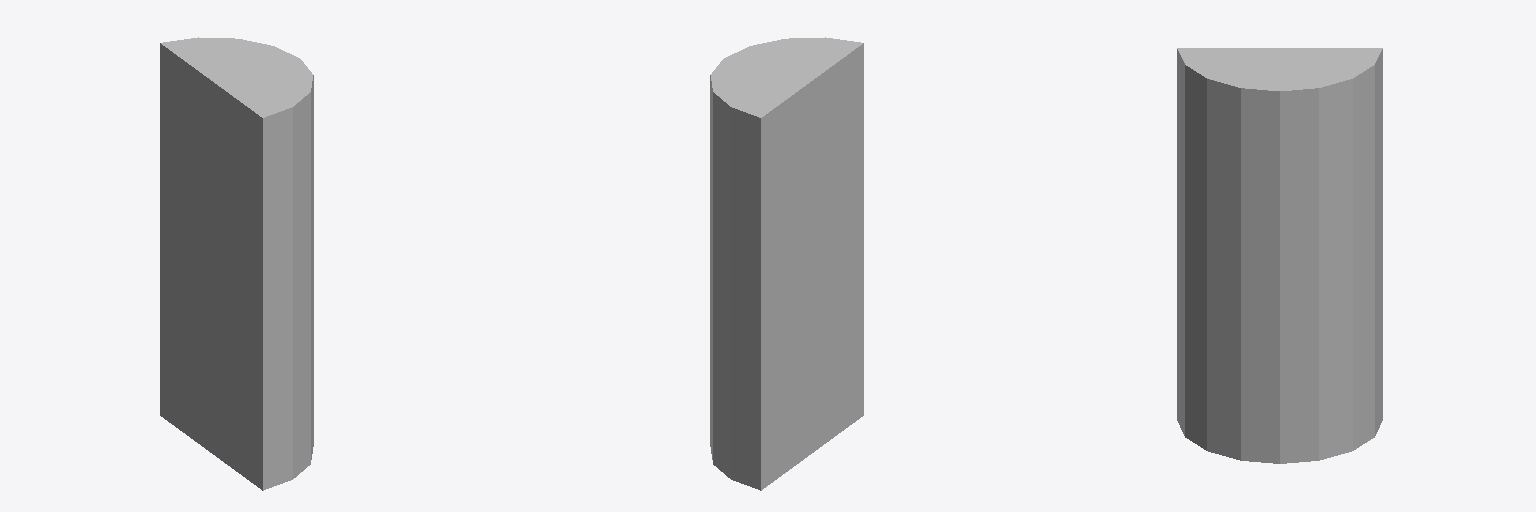
The model's file is wall_engaged.obj.
3 renders of one model, left to right at view 1: azimuth 30°, elevation 25°; view 2: azimuth 150°, elevation 25°; view 3: azimuth 270°, elevation 25°, orthographic.
Size of the model in its own units: 0.5012 by 2 by 1.